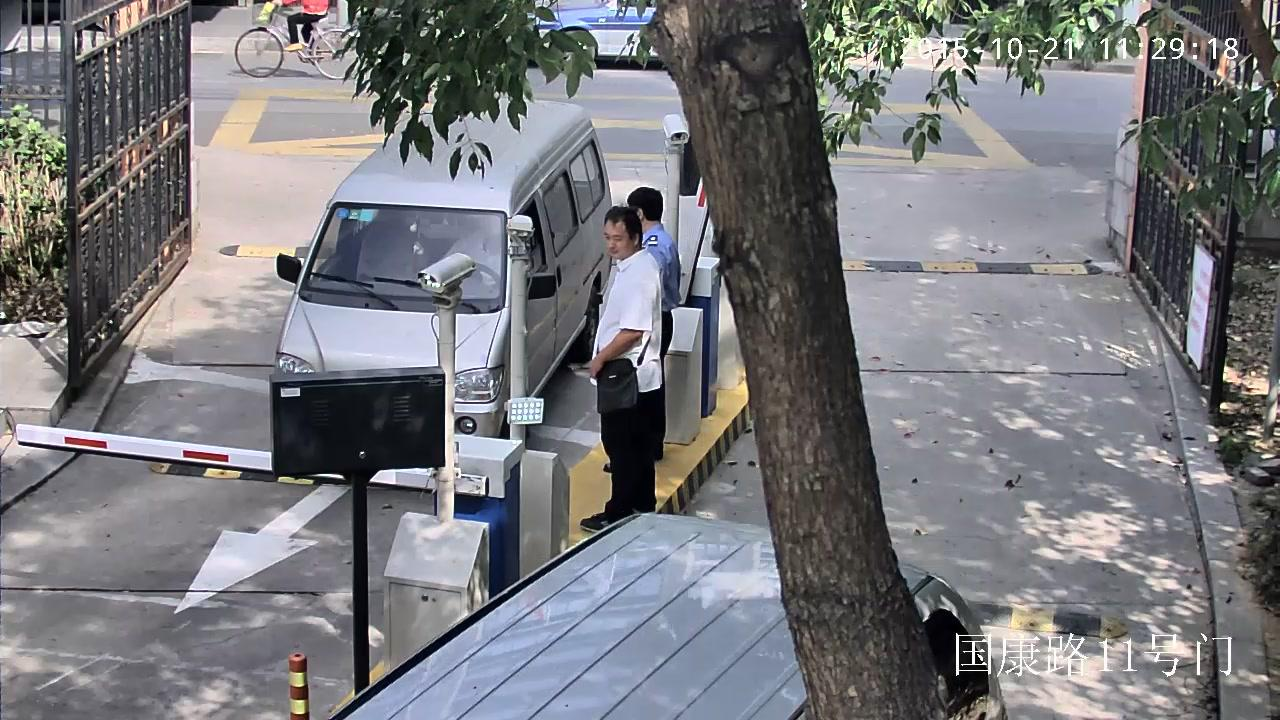person: (568, 206, 664, 535), (601, 187, 681, 474), (234, 0, 362, 80), (269, 0, 331, 67)
